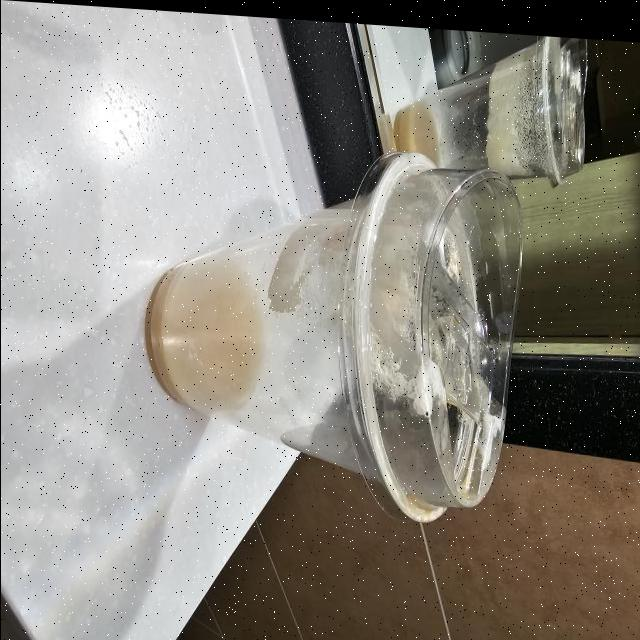cup: (138, 120, 528, 532)
